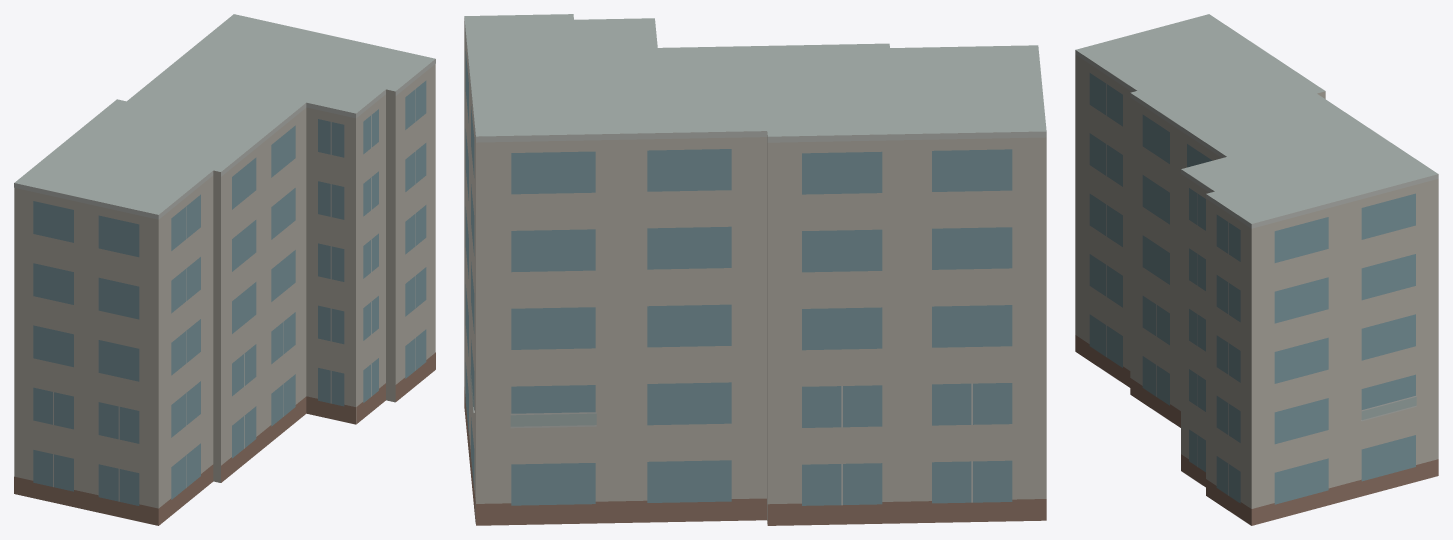
Rendered from survey-upis-32731342.glb.
3 renders of one model, left to right at view 1: azimuth 30°, elevation 25°; view 2: azimuth 150°, elevation 25°; view 3: azimuth 270°, elevation 25°, orthographic. The views are drawn at different scales.
Visible parts, largest first — view 1: survey-upis-32731342.tmp; view 2: survey-upis-32731342.tmp; view 3: survey-upis-32731342.tmp.
Boxes of the visible parts, bbox=[...] form: survey-upis-32731342.tmp: bbox=[14, 14, 435, 525]; survey-upis-32731342.tmp: bbox=[464, 14, 1046, 525]; survey-upis-32731342.tmp: bbox=[1075, 14, 1438, 525].
Bounding box in the file's own units: 23.59 × 15.8 × 17.24.
